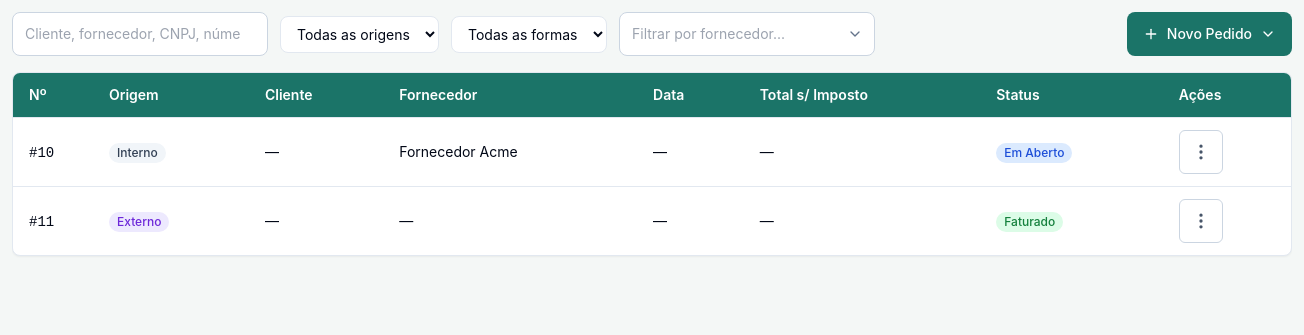
Test: Pedidos — menu de ações › não cancela sem confirmação e mostra conflito devolvido pela API
The image size is (1304, 335).
Click the button named "Opções do pedido #10" at (1201, 152), box [1179,130,1223,174]
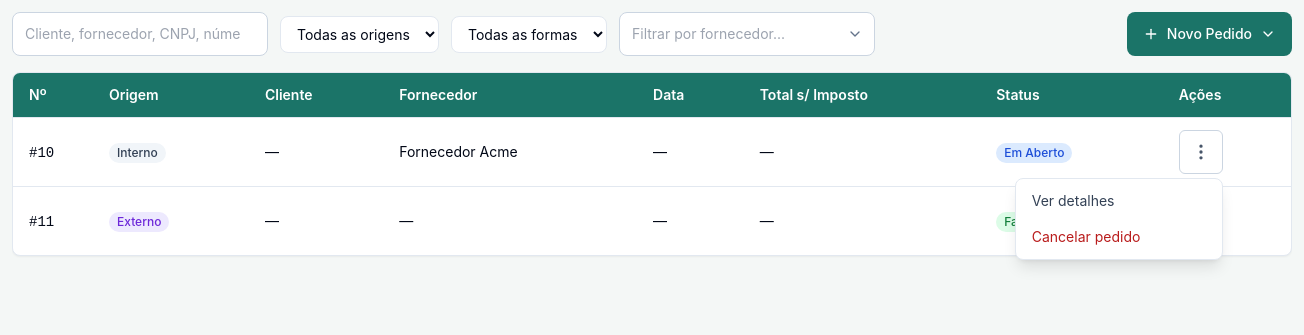
Click the menu item "Cancelar pedido" at (1119, 237), box [1016,219,1222,255]
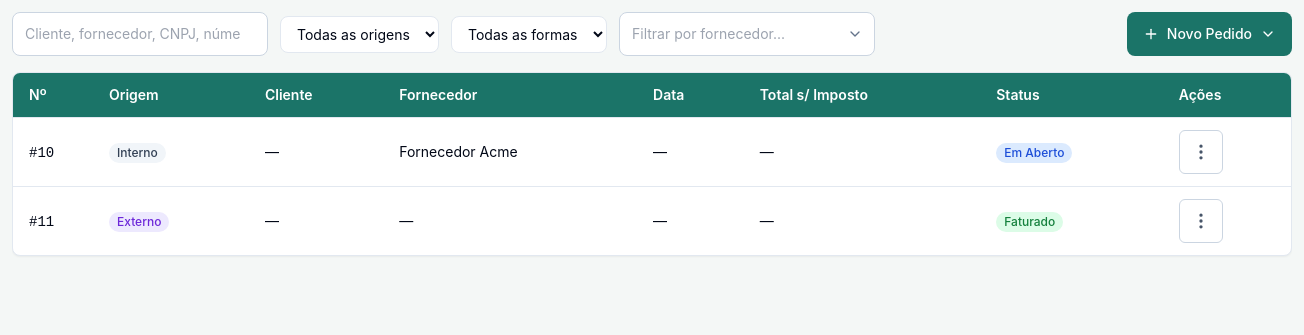
Click the button named "Opções do pedido #10" at (1201, 152), box [1179,130,1223,174]
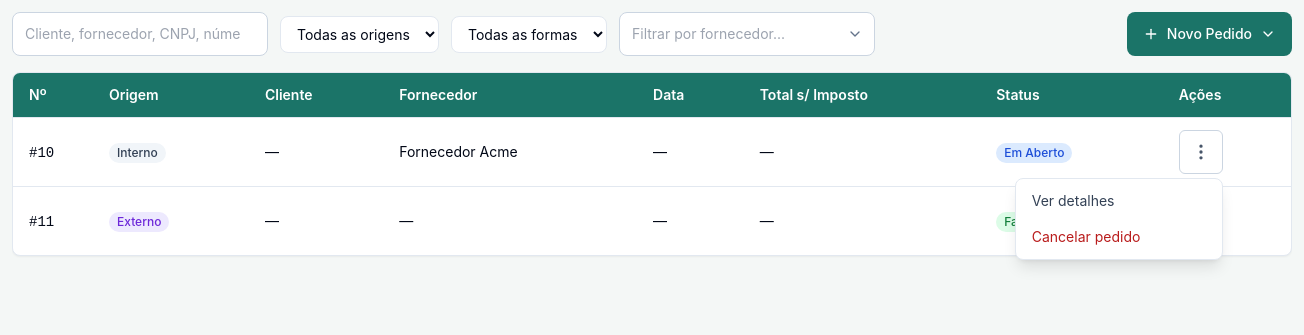
Click the menu item "Cancelar pedido" at (1119, 237), box [1016,219,1222,255]
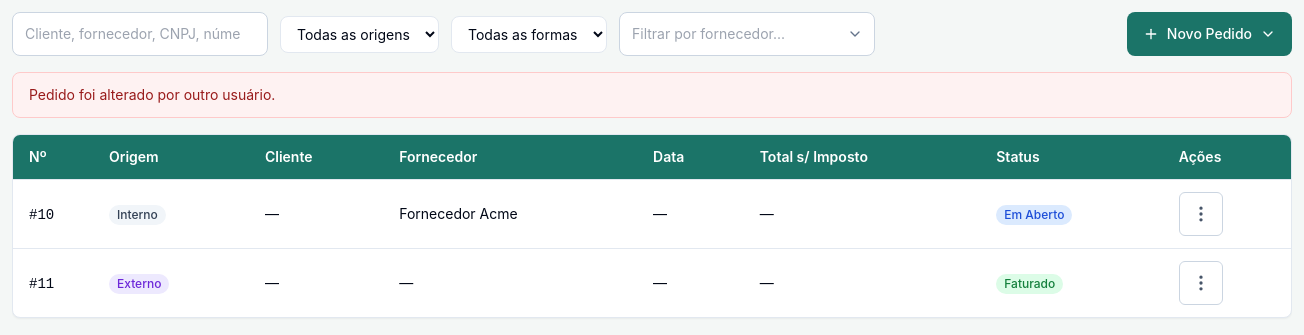
Result: the message reads "Pedido foi alterado por outro usuário." at [29,86,275,103]
